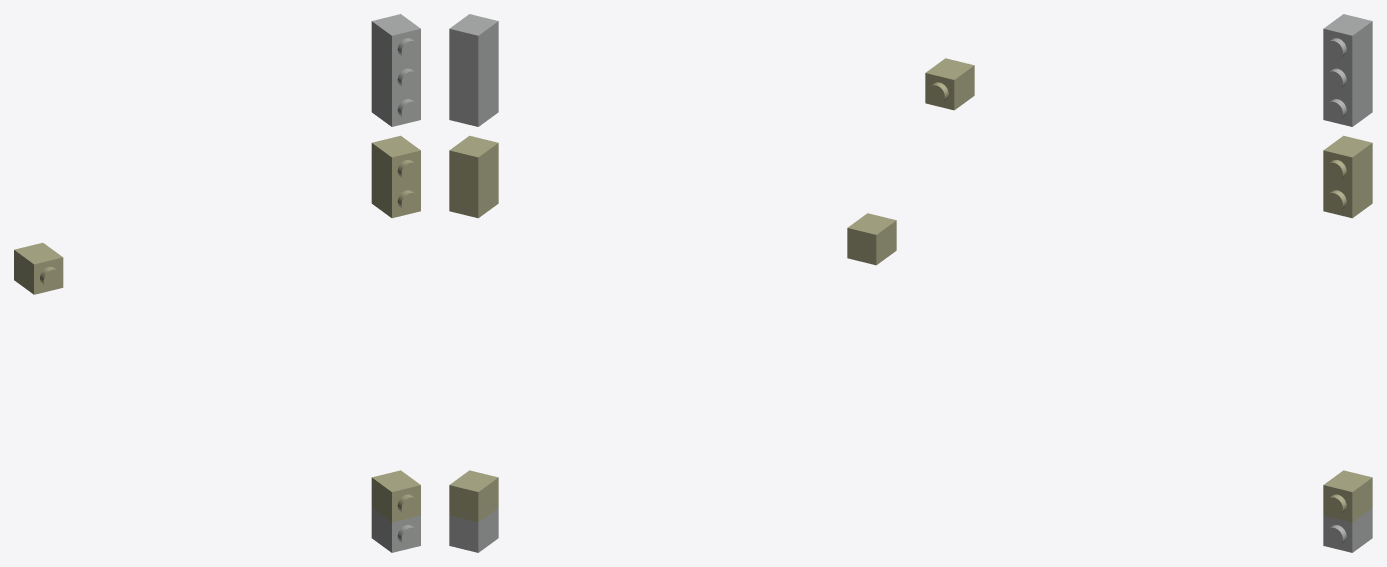
The model's file is current.glb.
The picture shows the model from 3 angles, left to right: view 1: azimuth 30°, elevation 25°; view 2: azimuth 150°, elevation 25°; view 3: azimuth 330°, elevation 25°; orthographic projection.
Parts seen in each view (by area): view 1: world; view 2: world; view 3: world.
Part boxes in pixels (bbox=[...]): world: bbox=[14, 14, 420, 552]; world: bbox=[449, 14, 896, 552]; world: bbox=[925, 14, 1372, 552].
Bounding box in the file's own units: 112 × 136 × 21.
